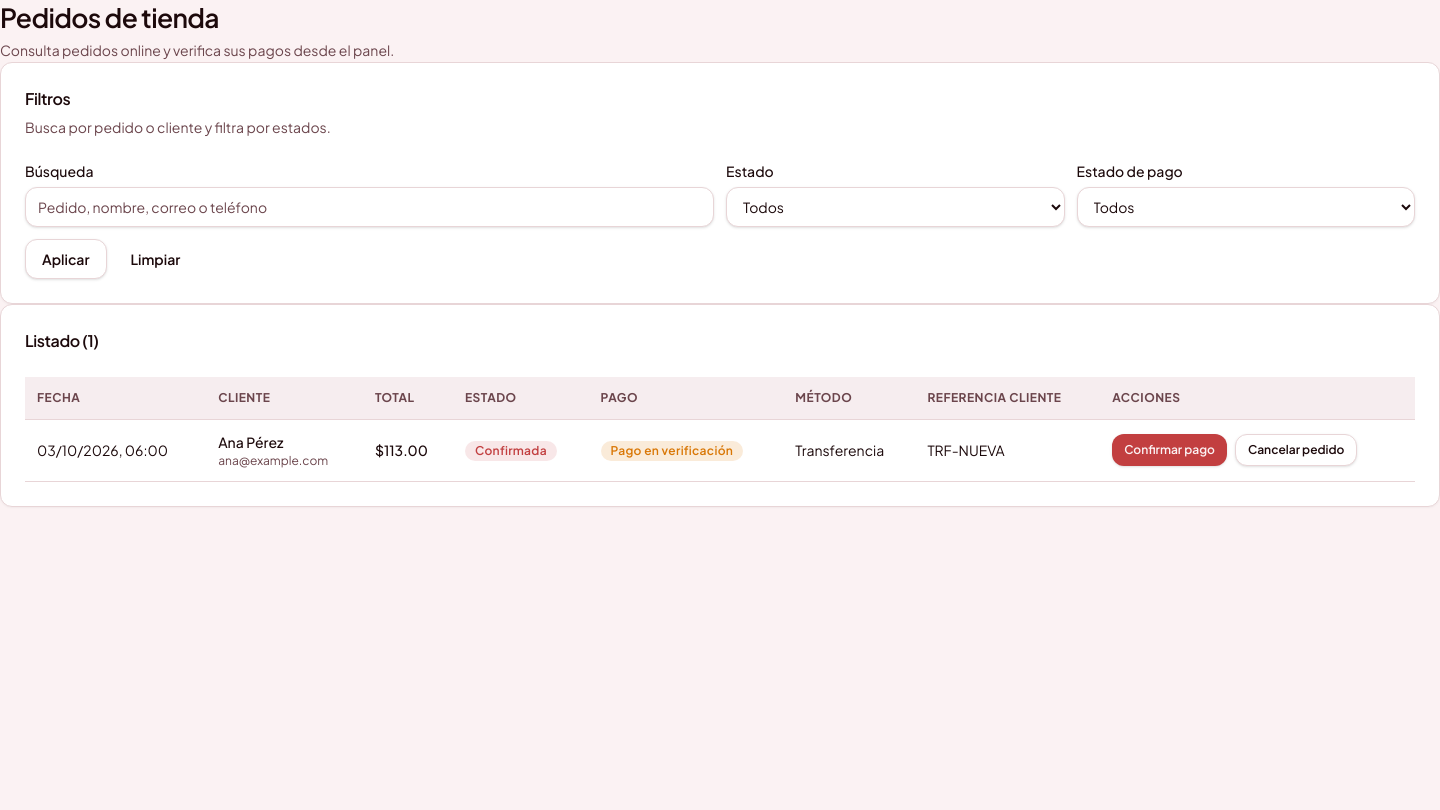
PedidosTiendaContent › muestra que la cancelación devuelve stock al inventario
Click the button "Cancelar pedido" at (1296, 450), box [1235, 434, 1357, 466]
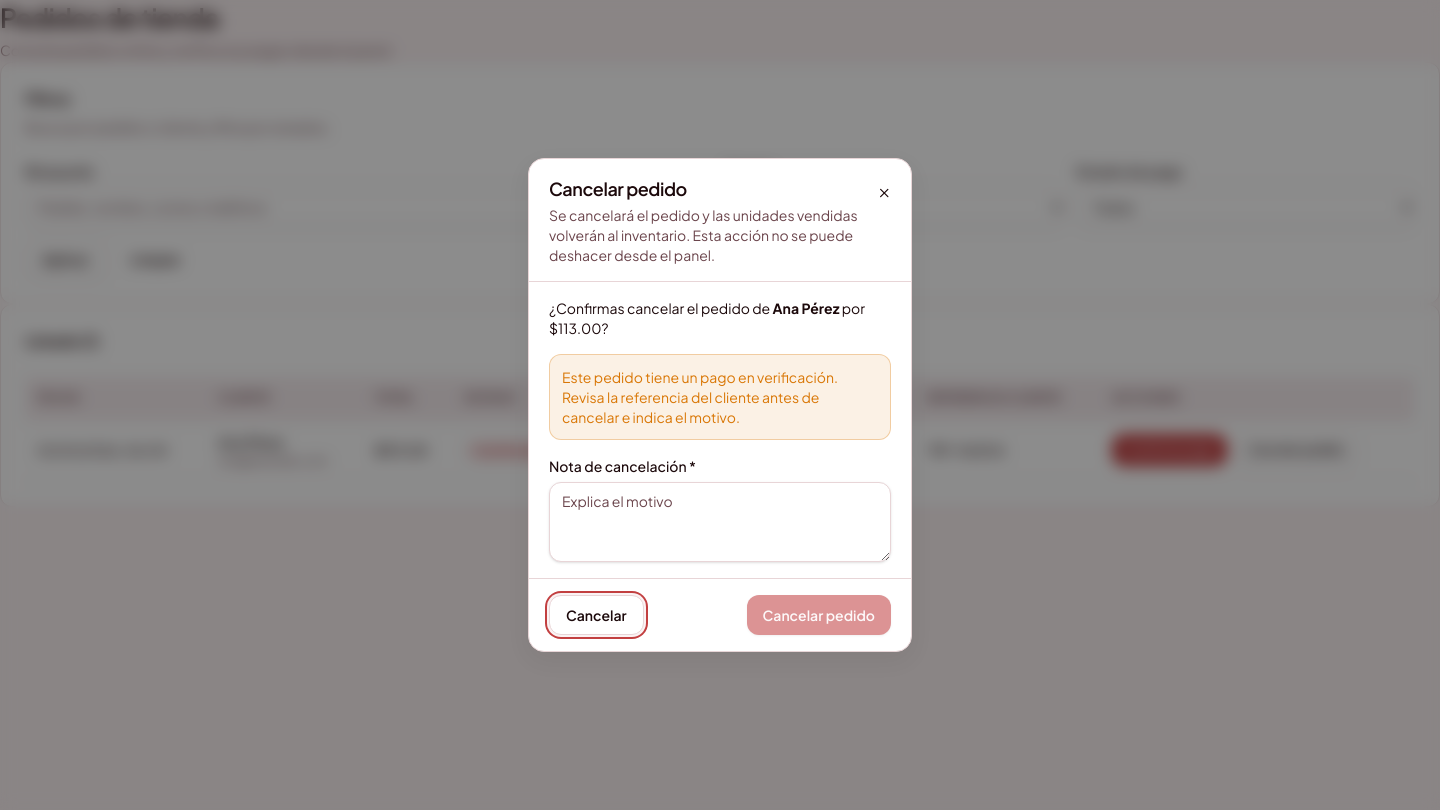
Check: the dialog shows "Se cancelará el pedido y las unidades vendidas volverán al inventario", box [549, 206, 858, 264]
